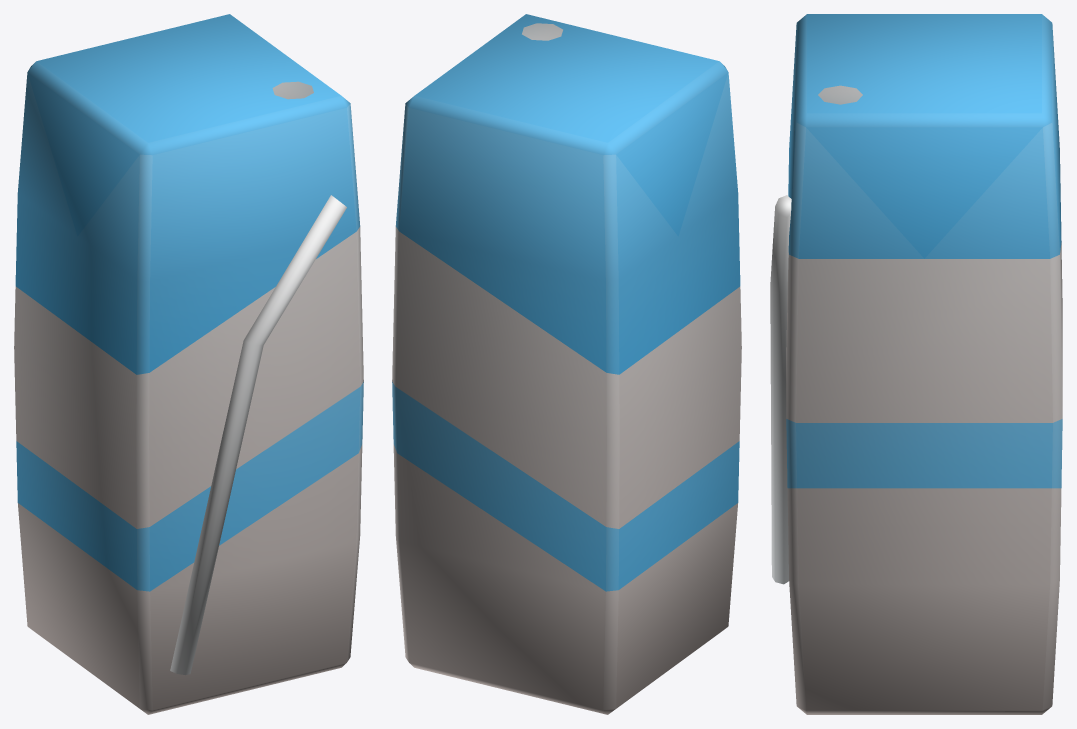
Rendered from milk_005.fbx.
3 views of the same model, side by side, from view 1: azimuth 30°, elevation 25°; view 2: azimuth 150°, elevation 25°; view 3: azimuth 270°, elevation 25° (orthographic). The views are drawn at different scales.
Parts seen in each view (by area): view 1: milk_005; view 2: milk_005; view 3: milk_005.
Part boxes in pixels (bbox=[...]): milk_005: bbox=[14, 14, 363, 714]; milk_005: bbox=[392, 14, 741, 714]; milk_005: bbox=[770, 14, 1062, 714].
Size of the model in its own units: 4.17 by 4.42 by 10.05.
